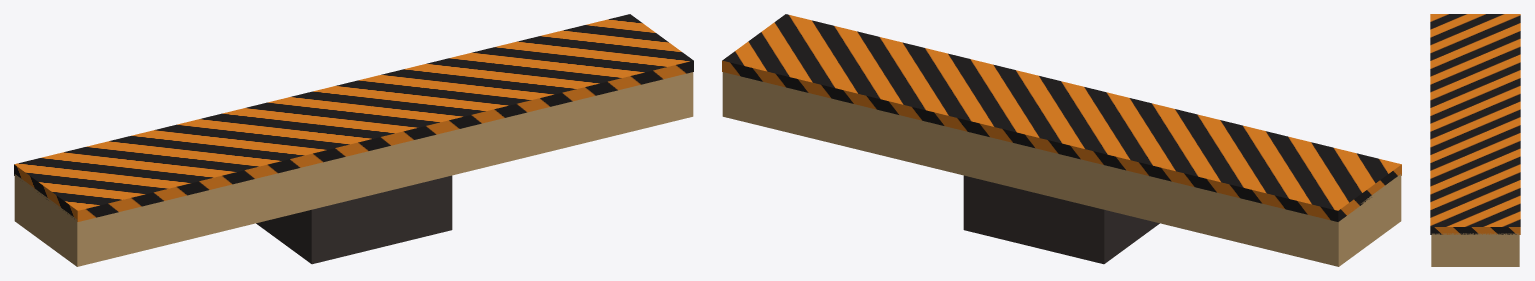
File: vymenik-most.glb
3 views of the same model, side by side, from view 1: azimuth 30°, elevation 25°; view 2: azimuth 150°, elevation 25°; view 3: azimuth 270°, elevation 25° (orthographic). The views are drawn at different scales.
Visible parts, largest first — view 1: vymenik-most; view 2: vymenik-most; view 3: vymenik-most.
Boxes of the visible parts, box(x1,y1,x2,y2) form: vymenik-most: box(14, 14, 693, 266); vymenik-most: box(722, 14, 1401, 266); vymenik-most: box(1430, 14, 1520, 266).
Bounding box in the file's own units: 5.7 × 1.01 × 1.02.
Materials: 3 (1 with a texture image).
